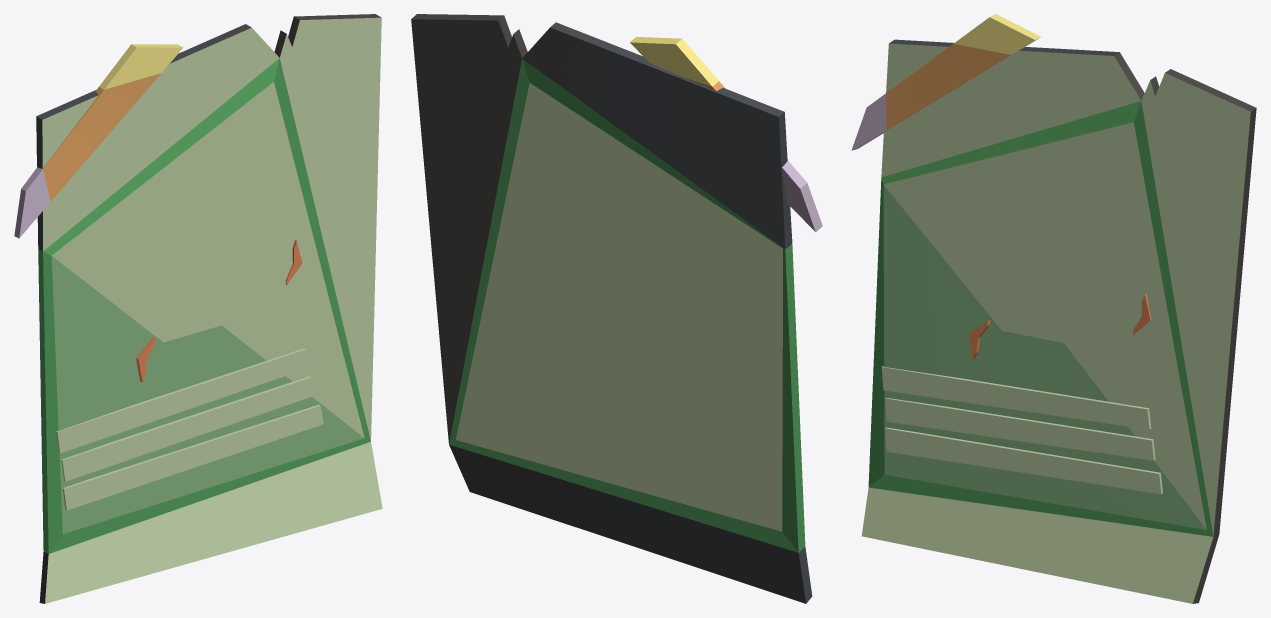
The model's file is animal_billboard002.glb.
3 renders of one model, left to right at view 1: azimuth 30°, elevation 25°; view 2: azimuth 150°, elevation 25°; view 3: azimuth 330°, elevation 25°, orthographic. The views are drawn at different scales.
Parts seen in each view (by area): view 1: Art_posters_04; view 2: Art_posters_04; view 3: Art_posters_04.
Part boxes in pixels (<box>): Art_posters_04: <box>14,14,382,603</box>; Art_posters_04: <box>411,14,822,603</box>; Art_posters_04: <box>851,14,1256,603</box>.
Bounding box in the file's own units: 2.42 × 3.22 × 0.3858.
1 material, 1 textured.
